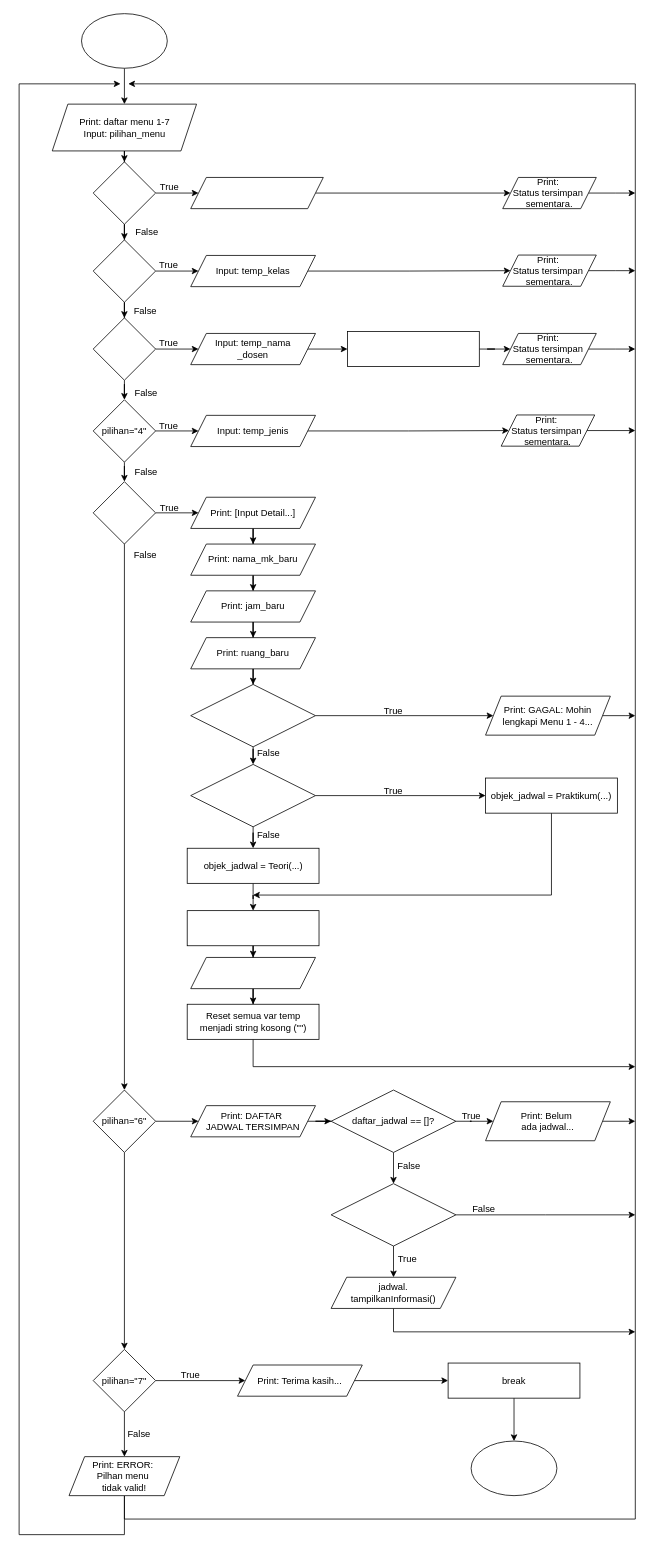
The diagram is 655 pixels wide and 1555 high, and some of its shapes have lost their labels. Here are the shapes that lost their labels. From the top down, the box of each, then its label:
(81, 13, 167, 68): start
(92, 161, 156, 224): pilihan="1"
(190, 177, 323, 209): Input: temp_sks
(92, 239, 156, 302): pilihan="2"
(92, 317, 156, 380): pilihan="3"
(347, 331, 479, 367): Input: temp_nip_dosen
(92, 481, 156, 544): pilihan="5"
(190, 684, 316, 747): Cek apakah var temp kosong?
(190, 764, 316, 827): temp_jenis = "Praktikum" atau "praktikum"?
(186, 910, 319, 946): daftar_jadwal.append (objek_jadwal)
(190, 957, 316, 989): Print: BERHASIL
(330, 1183, 456, 1246): Masih ada data di daftar_jadwal?
(470, 1440, 557, 1496): end
